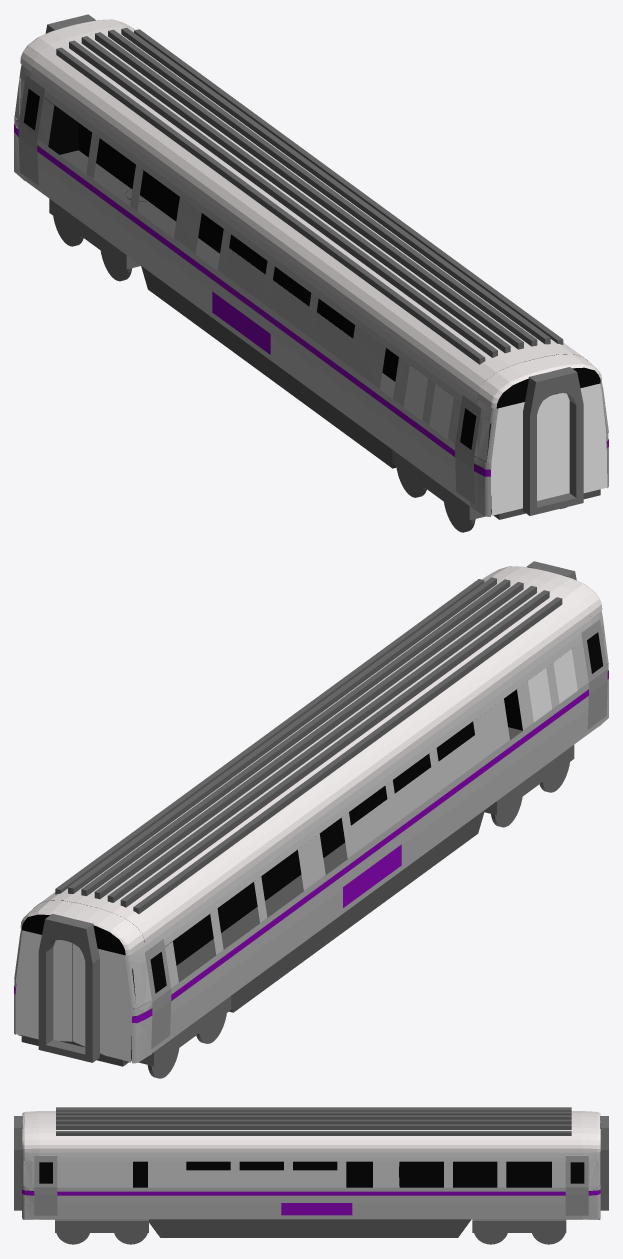
File: br-mk4-rsb-ec.dae
3 views of the same model, one above another, from view 1: azimuth 30°, elevation 25°; view 2: azimuth 150°, elevation 25°; view 3: azimuth 270°, elevation 25° (orthographic). The views are drawn at different scales.
Visible parts, largest first — view 1: Suzanne_001, Plane_134, Plane_100, Cube_002, Plane_111, Cube_008, Cube_004, Cube_003, Tube_002, Cube_009, Cube_010, Cube (+20 smaller); view 2: Suzanne_001, Plane_134, Plane_001, Plane_111, Tube_003, Cube_002, Cube_008, Cube_004, Cube_003, Cube_009, Cube, Cube_010 (+19 smaller); view 3: Plane_007, Suzanne_001, Plane_111, Cube, Plane_153, Cube_009, Cube_010, Plane_160, Cube_004, Cube_008, Cube_011, Plane_005 (+29 smaller).
Boxes of the visible parts, x1,y1,x2,y2 form: Suzanne_001: (31, 27, 587, 398); Plane_134: (24, 152, 470, 506); Plane_100: (491, 383, 607, 515); Cube_002: (69, 40, 497, 357); Plane_111: (78, 123, 398, 381); Cube_008: (95, 32, 523, 349); Cube_004: (81, 36, 510, 353); Cube_003: (56, 47, 485, 364); Tube_002: (522, 367, 583, 515); Cube_009: (108, 29, 537, 346); Cube_010: (121, 27, 550, 344); Cube: (141, 266, 396, 468); Suzanne_001: (34, 573, 590, 945); Plane_134: (152, 696, 598, 1053); Plane_001: (15, 930, 132, 1062); Plane_111: (72, 721, 474, 1041); Tube_003: (38, 913, 99, 1062); Cube_002: (120, 590, 549, 907); Cube_008: (94, 582, 523, 899); Cube_004: (107, 585, 536, 902); Cube_003: (133, 597, 562, 914); Cube_009: (81, 579, 510, 896); Cube: (229, 810, 484, 1012); Cube_010: (68, 577, 496, 893); Plane_007: (39, 1195, 582, 1219); Suzanne_001: (39, 1111, 582, 1152); Plane_111: (24, 1161, 597, 1191); Cube: (149, 1219, 471, 1237); Plane_153: (39, 1152, 582, 1157); Cube_009: (56, 1119, 571, 1124); Cube_010: (56, 1124, 571, 1129); Plane_160: (186, 1161, 346, 1187); Cube_004: (56, 1111, 571, 1115); Cube_008: (56, 1115, 571, 1119); Cube_011: (56, 1131, 571, 1135); Plane_005: (57, 1191, 565, 1195).
Bounding box in the file's own units: 2.11 × 13.39 × 2.81.
